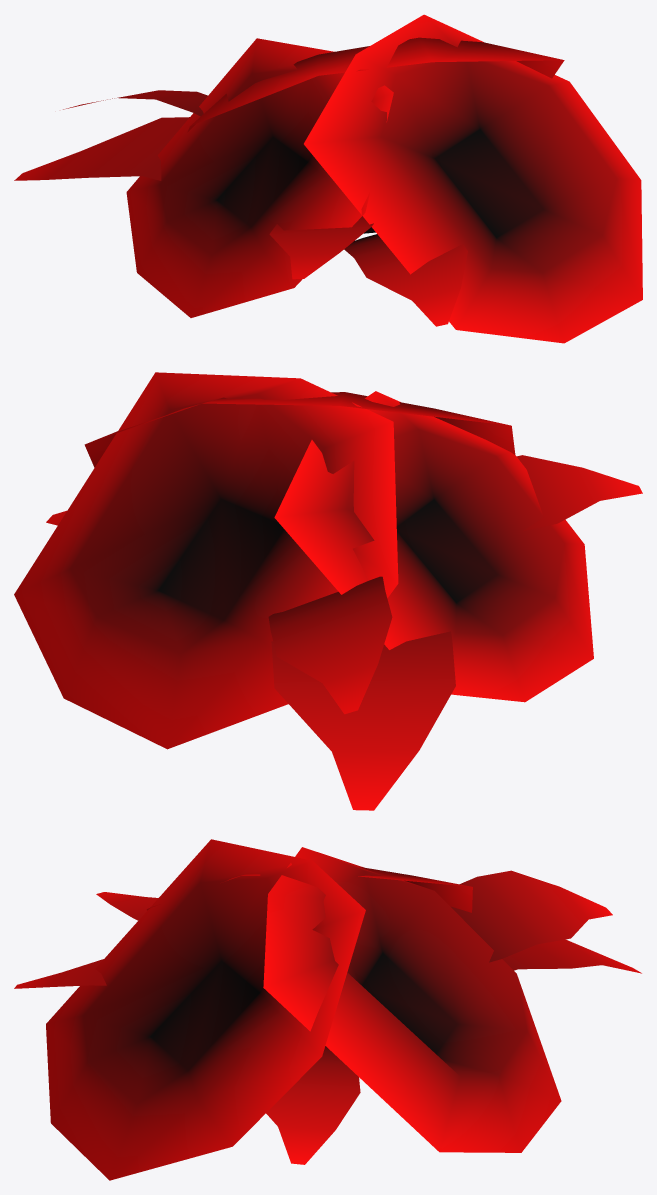
File: Flower_03.fbx
3 renders of one model, top to bottom at view 1: azimuth 30°, elevation 25°; view 2: azimuth 150°, elevation 25°; view 3: azimuth 270°, elevation 25°, orthographic. The views are drawn at different scales.
Parts seen in each view (by area): view 1: Flower_03; view 2: Flower_03; view 3: Flower_03.
Boxes of the visible parts, x1,y1,x2,y2 form: Flower_03: (14, 14, 642, 343); Flower_03: (14, 372, 642, 810); Flower_03: (14, 839, 641, 1180).
Size of the model in its own units: 114 by 52.35 by 132.
